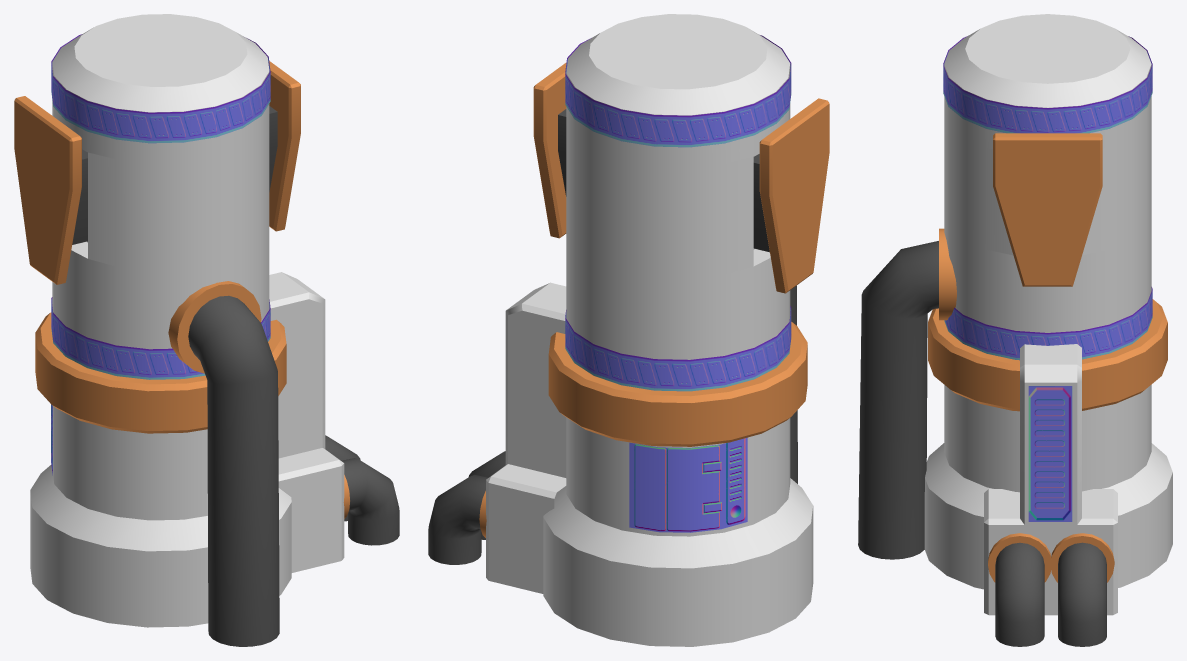
File: S_Chaudiere.fbx
3 views of the same model, side by side, from view 1: azimuth 30°, elevation 25°; view 2: azimuth 150°, elevation 25°; view 3: azimuth 270°, elevation 25° (orthographic). The views are drawn at different scales.
Parts seen in each view (by area): view 1: CHAUDIERE; view 2: CHAUDIERE; view 3: CHAUDIERE.
Part boxes in pixels (x1,y1,x2,y2): CHAUDIERE: (14,14,399,646); CHAUDIERE: (428,14,829,646); CHAUDIERE: (858,14,1172,646).
Size of what is drawn, in the model's own units: 271 by 397 by 229.
